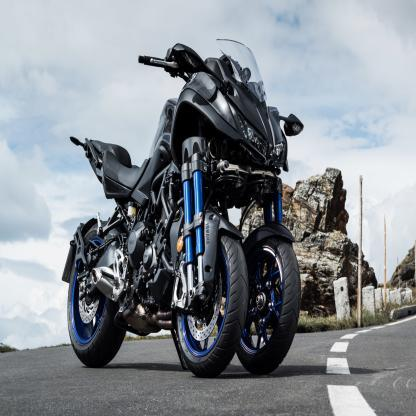Motorcycle: (56, 34, 307, 378)
